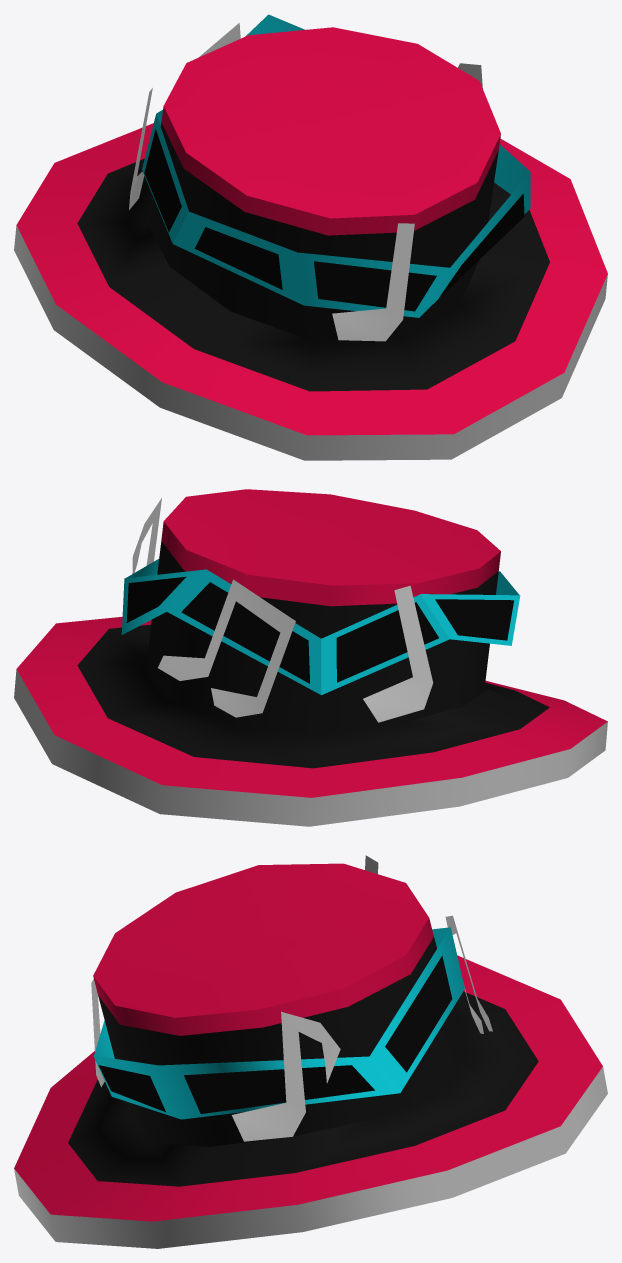
Rendered from hat_tiktok.glb.
3 renders of one model, top to bottom at view 1: azimuth 30°, elevation 25°; view 2: azimuth 150°, elevation 25°; view 3: azimuth 270°, elevation 25°, orthographic.
Parts seen in each view (by area): view 1: hat_tiktok; view 2: hat_tiktok; view 3: hat_tiktok.
Part boxes in pixels (left/top/right/bottom): hat_tiktok: left=14, top=14, right=607, bottom=460; hat_tiktok: left=14, top=489, right=607, bottom=826; hat_tiktok: left=14, top=855, right=607, bottom=1248.
Bounding box in the file's own units: 0.4984 × 0.2604 × 0.4937.
